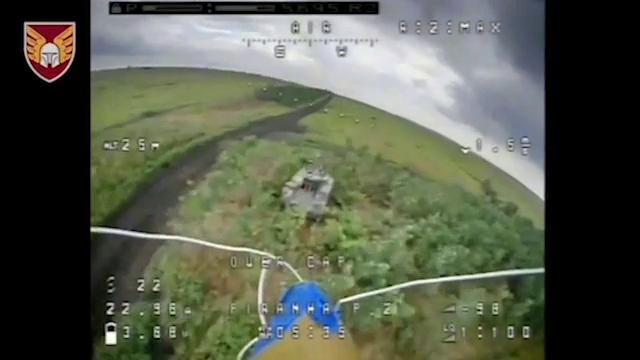tank: (279, 153, 334, 225)
